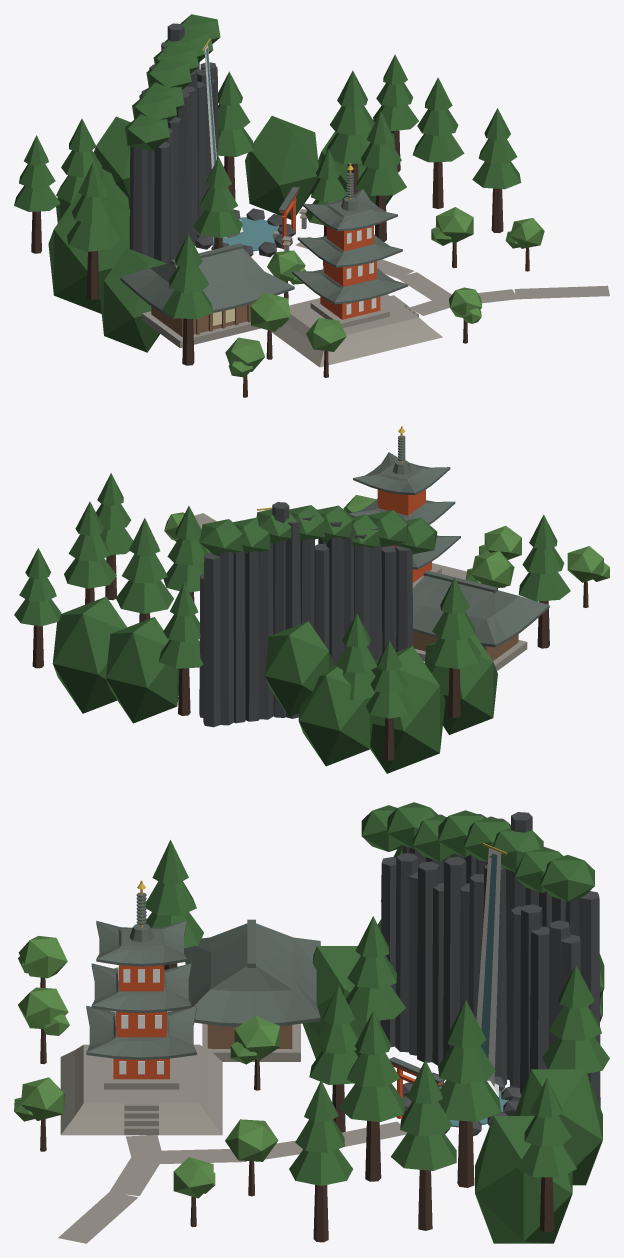
The model's file is nachi-falls.glb.
The picture shows the model from 3 angles, top to bottom: view 1: azimuth 30°, elevation 25°; view 2: azimuth 150°, elevation 25°; view 3: azimuth 270°, elevation 25°; orthographic projection. The views are drawn at different scales.
Parts seen in each view (by area): view 1: nachi_forest, nachi_rock, nachi_roof, nachi_stone, nachi_leaf, nachi_bark, nachi_red, nachi_water, nachi_wood, nachi_white; view 2: nachi_forest, nachi_rock, nachi_roof, nachi_leaf, nachi_bark, nachi_red, nachi_stone, nachi_wood; view 3: nachi_forest, nachi_rock, nachi_roof, nachi_stone, nachi_leaf, nachi_bark, nachi_white, nachi_red, nachi_water, nachi_wood.
Boxes of the visible parts, x1,y1,x2,y2 form: nachi_forest: (14,14,521,352); nachi_rock: (129,23,295,263); nachi_roof: (120,172,408,318); nachi_stone: (142,209,609,367); nachi_leaf: (225,207,544,377); nachi_bark: (31,130,529,397); nachi_red: (279,191,380,319); nachi_water: (206,48,279,251); nachi_wood: (151,303,253,337); nachi_white: (204,44,376,314); nachi_forest: (14,473,570,773); nachi_rock: (199,502,412,727); nachi_roof: (348,435,549,647); nachi_leaf: (164,495,609,587); nachi_bark: (32,554,588,760); nachi_red: (377,489,431,582); nachi_stone: (194,513,527,670); nachi_wood: (413,631,518,660); nachi_forest: (145,802,609,1243); nachi_rock: (380,812,600,1136); nachi_roof: (86,892,444,1083); nachi_stone: (58,1023,444,1243); nachi_leaf: (14,936,280,1198); nachi_bark: (40,963,554,1242); nachi_white: (112,848,501,1096); nachi_red: (113,965,442,1118); nachi_water: (439,853,508,1127); nachi_wood: (207,1024,292,1048).
Bounding box in the file's own units: 21.6 × 12 × 20.58.
